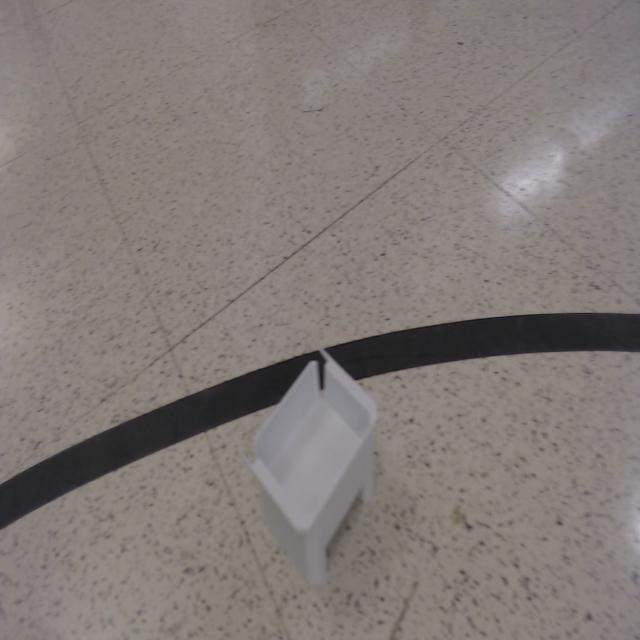wbox: (245, 344, 380, 588)
